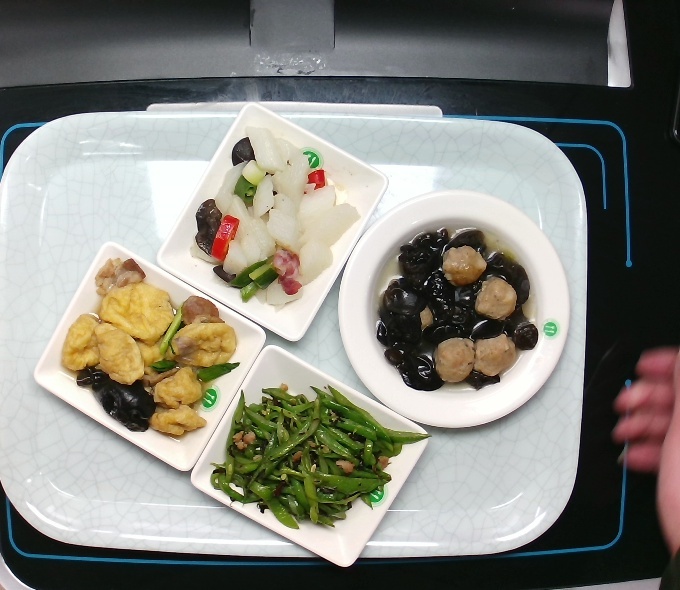wcq-MuErWanZi: (368, 220, 544, 397)
wcq-ShanYao: (181, 119, 368, 317)
wcq-SiJiDouChaoRou: (202, 374, 434, 541)
wcq-YouPaoRouPian: (47, 251, 245, 443)
